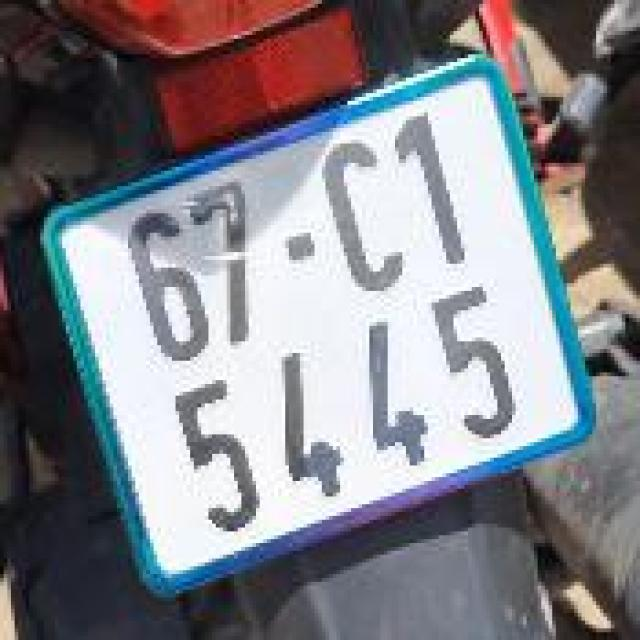1: (383, 97, 491, 286)
4: (333, 303, 454, 492), (248, 337, 356, 518)
5: (415, 273, 544, 455), (159, 367, 278, 548)
6: (117, 203, 221, 379)
7: (175, 167, 275, 360)
C: (310, 118, 426, 310)
